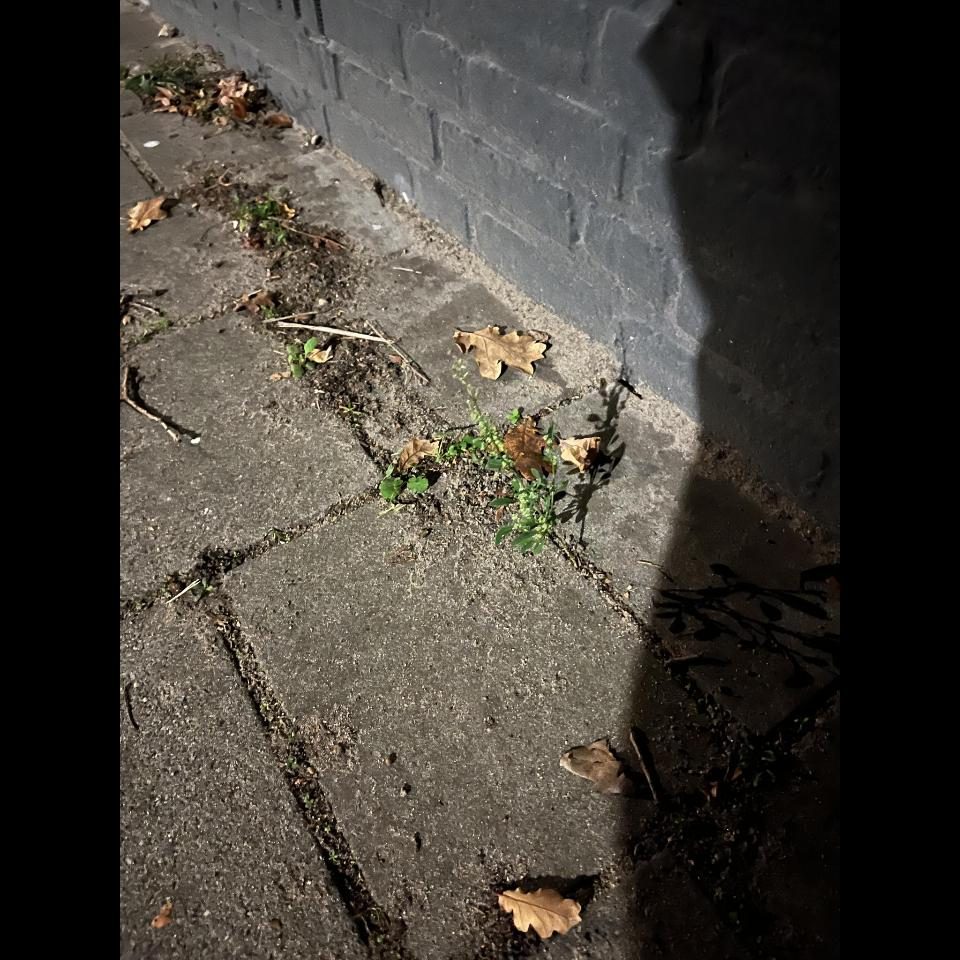weed: (439, 404, 573, 562), (235, 195, 292, 250), (124, 322, 172, 353)
